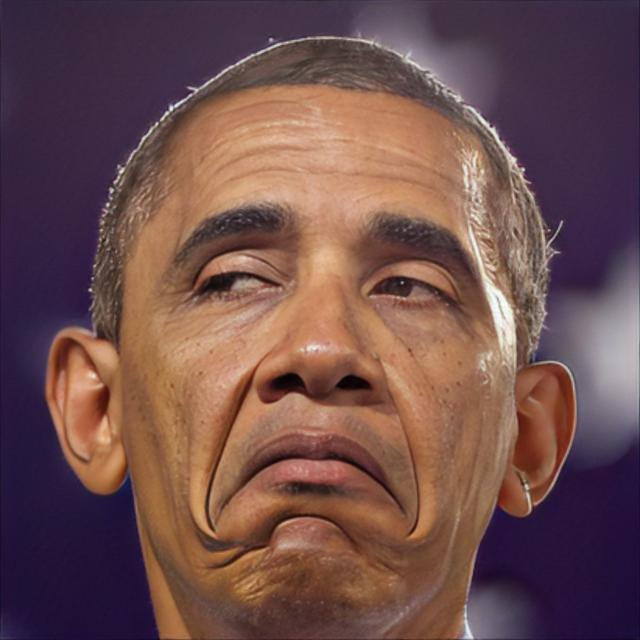disgust: (117, 74, 517, 640)
